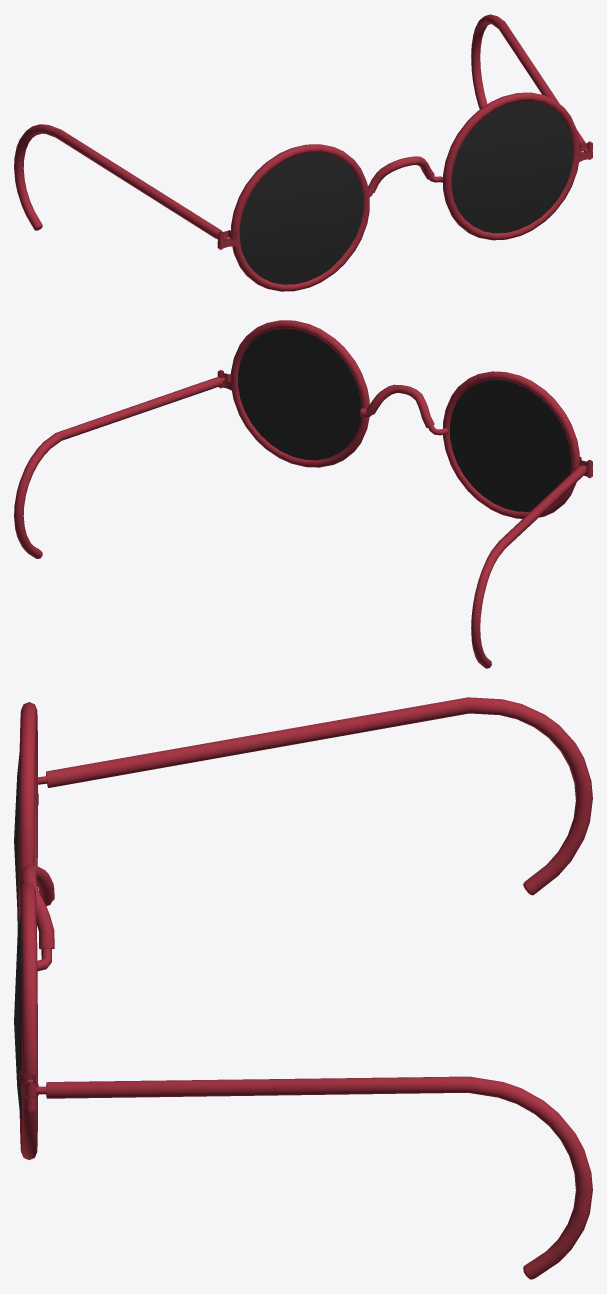
3 views of the same model, one above another, from view 1: azimuth 30°, elevation 25°; view 2: azimuth 150°, elevation 25°; view 3: azimuth 270°, elevation 25° (orthographic). The views are drawn at different scales.
Visible parts, largest first — view 1: Glass2; view 2: Glass2; view 3: Glass2.
Boxes of the visible parts, x1,y1,x2,y2 form: Glass2: [14, 14, 592, 291]; Glass2: [14, 320, 592, 668]; Glass2: [14, 697, 592, 1279].
Size of the model in its own units: 49.17 by 16.19 by 30.23.
Materials: 2 (1 with a texture image).
